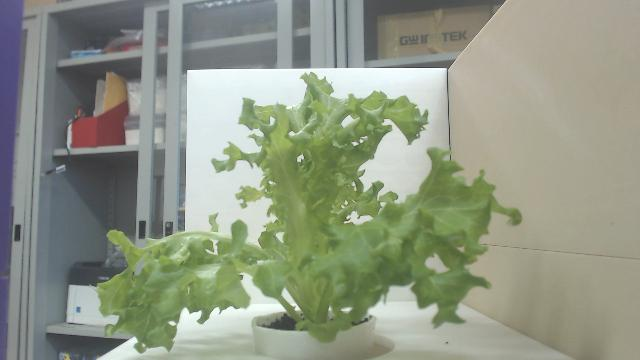Harvest Stage: (90, 70, 524, 360)
